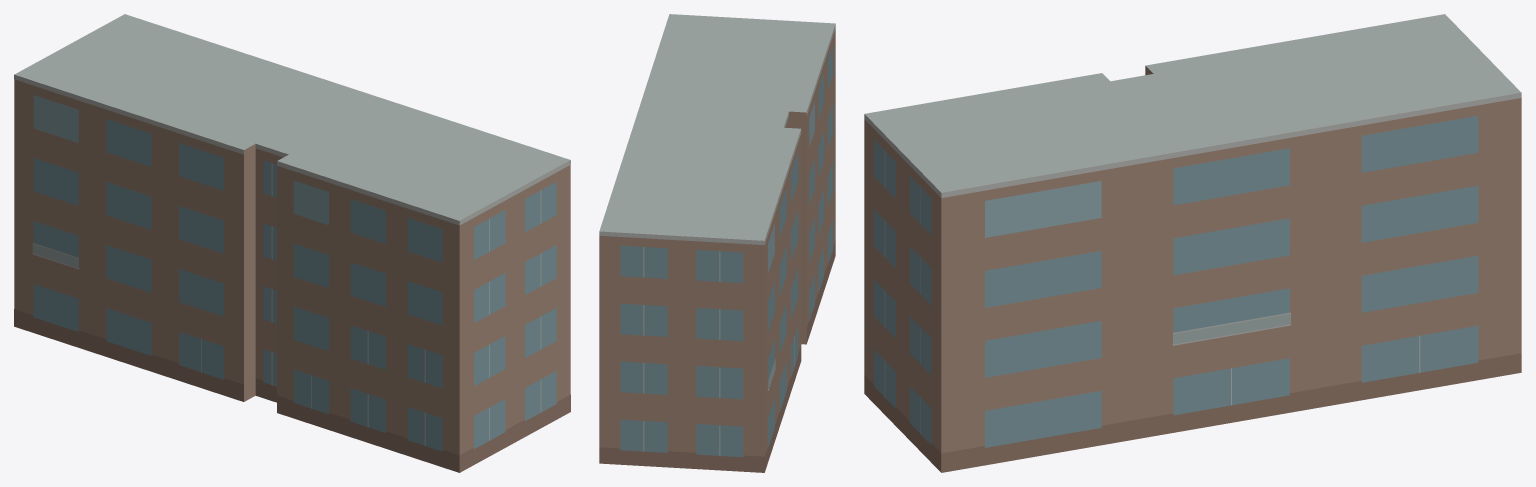
Rendered from survey-upis-32758782.glb.
The picture shows the model from 3 angles, left to right: view 1: azimuth 30°, elevation 25°; view 2: azimuth 150°, elevation 25°; view 3: azimuth 270°, elevation 25°; orthographic projection. The views are drawn at different scales.
Visible parts, largest first — view 1: survey-upis-32758782.tmp; view 2: survey-upis-32758782.tmp; view 3: survey-upis-32758782.tmp.
Boxes of the visible parts, x1,y1,x2,y2 form: survey-upis-32758782.tmp: [14, 14, 570, 472]; survey-upis-32758782.tmp: [599, 14, 835, 472]; survey-upis-32758782.tmp: [864, 14, 1521, 472].
Bounding box in the file's own units: 18.1 × 13.2 × 28.09.
